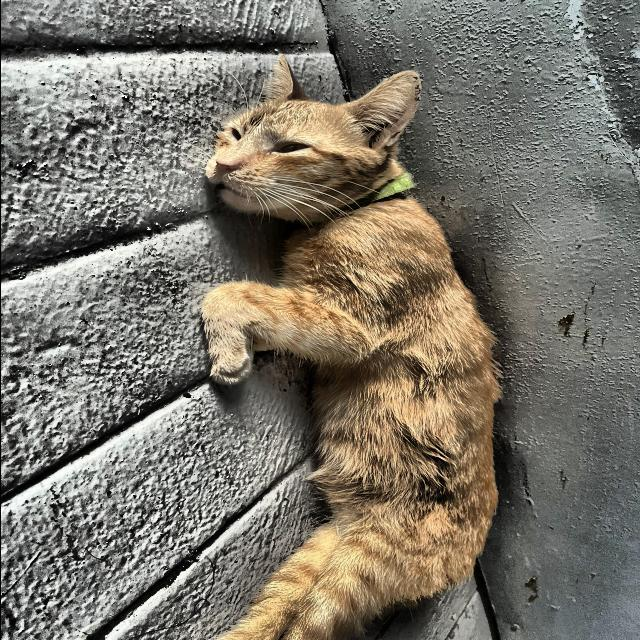Healthy skin: (324, 72, 432, 176), (326, 253, 431, 335), (372, 408, 459, 502), (283, 556, 385, 612)
